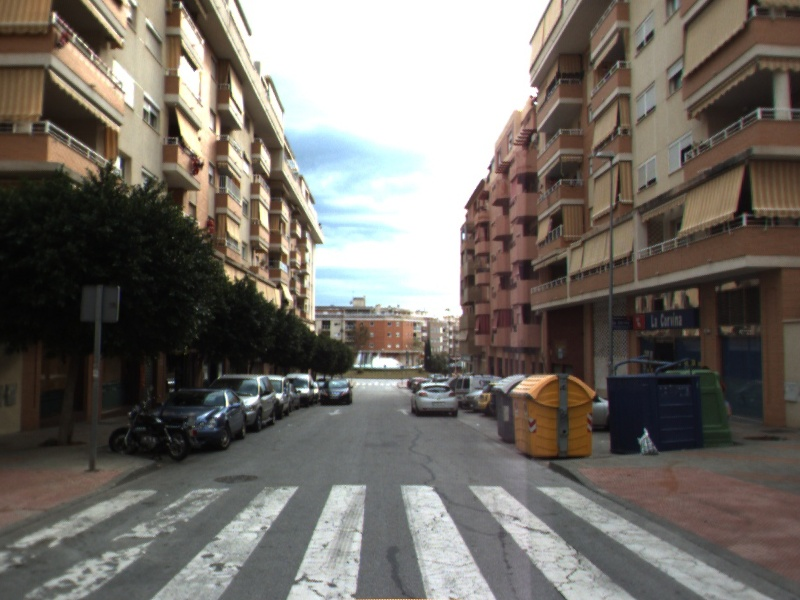STRAIGHT: (395, 406, 412, 417)
